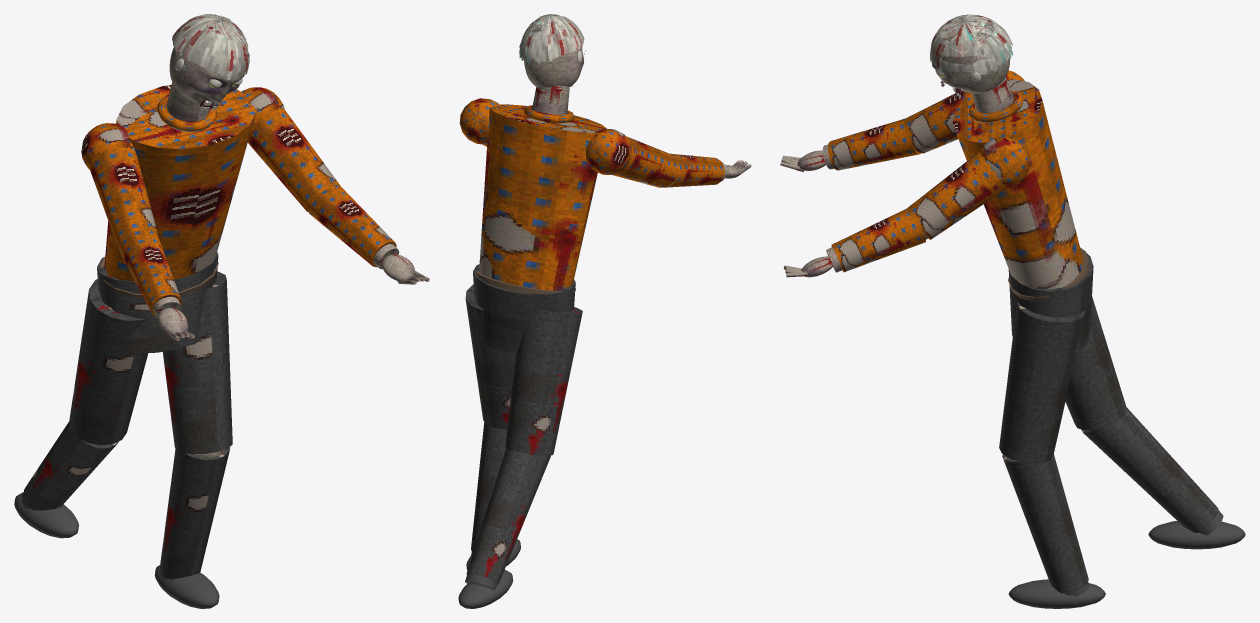
The model's file is Zombie_038.glb.
The picture shows the model from 3 angles, left to right: view 1: azimuth 30°, elevation 25°; view 2: azimuth 150°, elevation 25°; view 3: azimuth 270°, elevation 25°; orthographic projection. The views are drawn at different scales.
Visible parts, largest first — view 1: Zombie_038, object 12, object 44, object 4, object 18, object 13, object 5; view 2: Zombie_038, object 44, object 18, object 4; view 3: Zombie_038, object 12, object 44, object 4, object 18.
Boxes of the visible parts, x1,y1,x2,y2 form: Zombie_038: (14, 82, 339, 608); object 12: (307, 185, 396, 267); object 44: (172, 14, 249, 79); object 4: (118, 230, 182, 316); object 18: (169, 26, 244, 105); object 13: (381, 254, 414, 280); object 5: (158, 308, 188, 332); Zombie_038: (458, 86, 678, 608); object 44: (519, 14, 585, 62); object 18: (524, 28, 583, 87); object 4: (665, 153, 724, 187); Zombie_038: (904, 70, 1245, 608); object 12: (831, 209, 926, 272); object 44: (930, 14, 1013, 75); object 4: (828, 118, 920, 170); object 18: (931, 24, 1010, 93).
Bounding box in the file's own units: 0.7433 × 1.73 × 1.26.
Materials: 16 (6 with a texture image).
